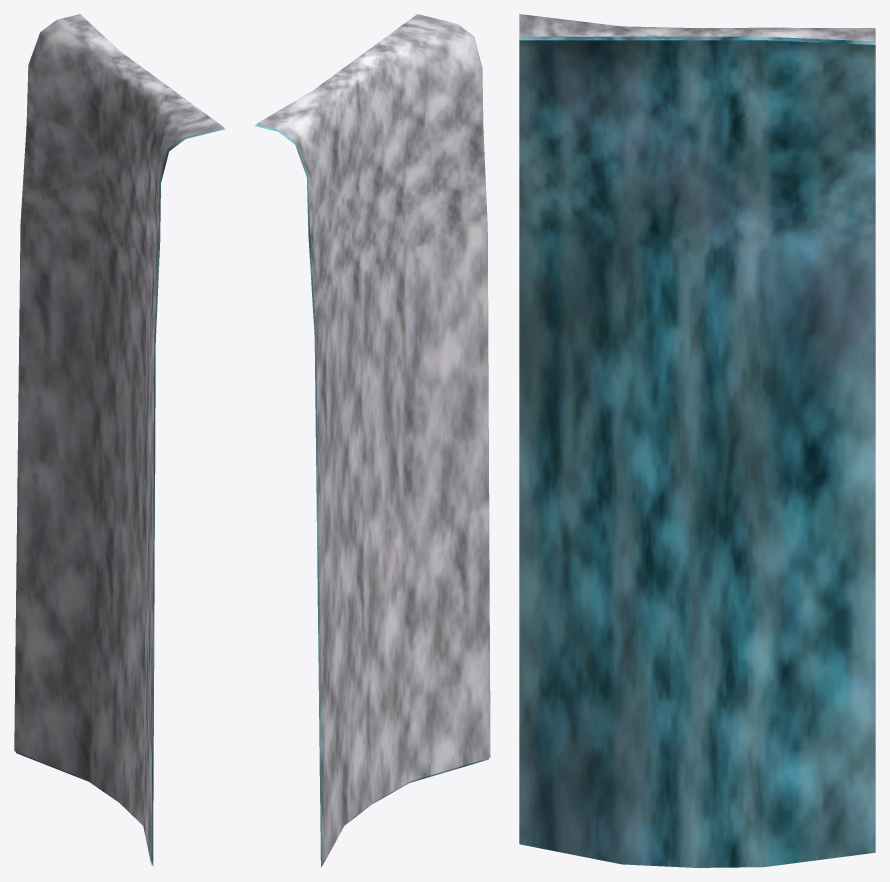
File: OVERHILL_A_01_LINE303.fbx
3 views of the same model, side by side, from view 1: azimuth 30°, elevation 25°; view 2: azimuth 150°, elevation 25°; view 3: azimuth 270°, elevation 25° (orthographic). The views are drawn at different scales.
Visible parts, largest first — view 1: OVERHILL_A_01_LINE303; view 2: OVERHILL_A_01_LINE303; view 3: OVERHILL_A_01_LINE303.
Boxes of the visible parts, x1,y1,x2,y2 form: OVERHILL_A_01_LINE303: [14, 14, 225, 866]; OVERHILL_A_01_LINE303: [255, 14, 490, 867]; OVERHILL_A_01_LINE303: [519, 14, 875, 867].
Size of the model in its own units: 13476 by 113071 by 43094.
Materials: 2 (2 with a texture image).
